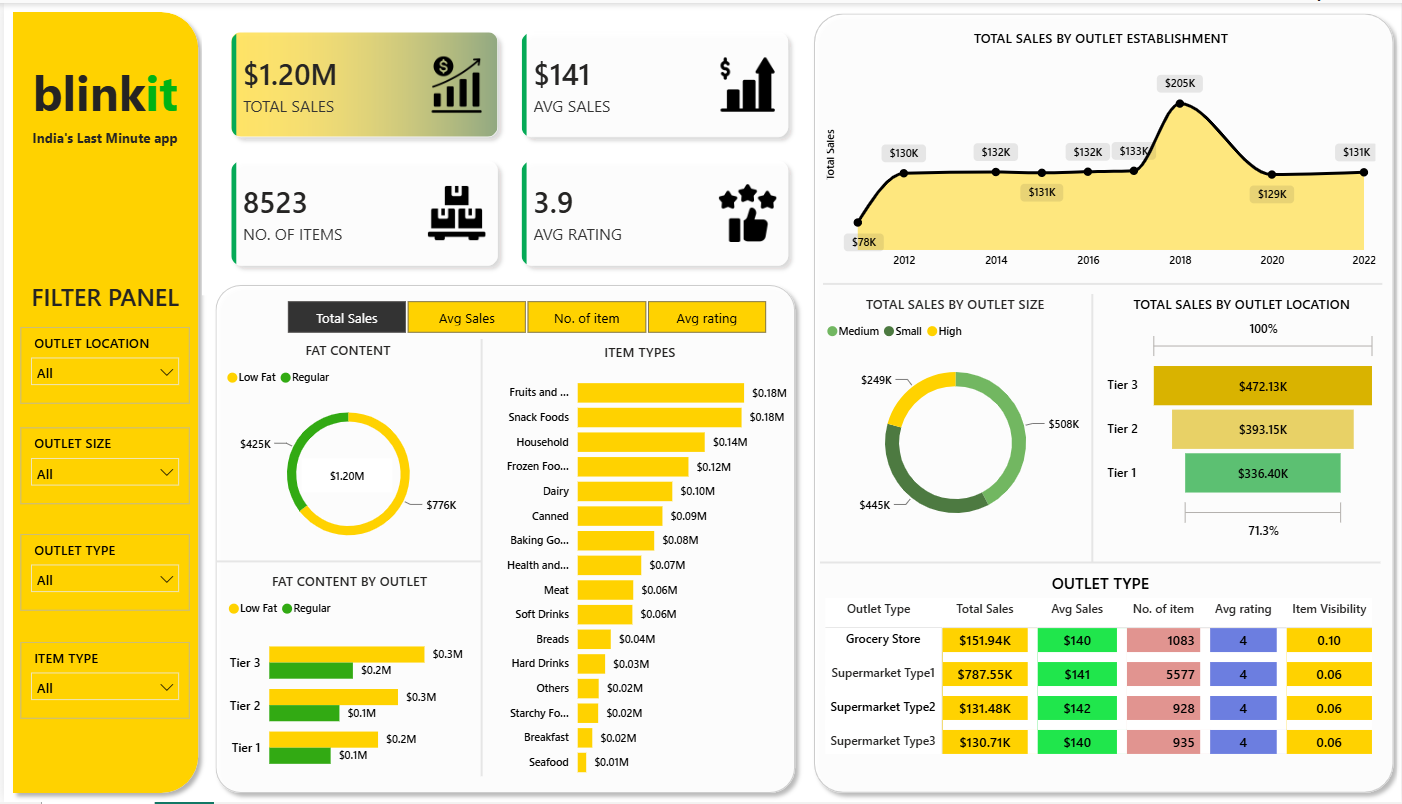

Layout of this report page (visuals, bound fields, positions):
{"tool":"powerbi","page":{"name":"Page 1","canvas":[1400,800],"ordinal":0},"visuals":[{"type":"shape","box":[0,0,203.6,800],"z":0},{"type":"textbox","box":[16.1,51.8,169.6,105.4],"z":1000},{"type":"textbox","box":[16.1,119.6,169.6,60.7],"z":2000},{"type":"cardVisual","fields":{"Data":["BlinkIT Grocery Data.Total Sales","BlinkIT Grocery Data.Avg Sales","BlinkIT Grocery Data.No. of item","BlinkIT Grocery Data.Avg rating"]},"box":[198.2,0,617.9,292.9],"z":3000},{"type":"shape","box":[203.3,273.3,598.3,526.7],"z":4000},{"type":"donutChart","title":"FAT CONTENT","fields":{"Y":["BlinkIT Grocery Data.Total Sales"],"Category":["BlinkIT Grocery Data.Item Fat Content"]},"box":[218.3,338.3,253.3,221.7],"z":5000},{"type":"slicer","fields":{"Values":["Metrics.Metrics"]},"box":[258.6,291.4,528.6,45.7],"z":6000},{"type":"cardVisual","fields":{"Data":["BlinkIT Grocery Data.Total Sales"]},"box":[292.9,450,101.8,44.6],"z":7000},{"type":"clusteredBarChart","title":"FAT CONTENT BY OUTLET","fields":{"Y":["BlinkIT Grocery Data.Total Sales"],"Category":["BlinkIT Grocery Data.Outlet Location Type"],"Series":["BlinkIT Grocery Data.Item Fat Content"]},"box":[219.6,569.6,253.6,216.1],"z":8000},{"type":"shape","box":[213.3,544.4,265.6,27.8],"z":9000},{"type":"shape","box":[472.2,336.7,13.3,437.8],"z":10000},{"type":"barChart","title":"   ITEM TYPES","fields":{"Y":["BlinkIT Grocery Data.Total Sales"],"Category":["BlinkIT Grocery Data.Item Type"]},"box":[485.6,338.9,303.3,445.6],"z":11000},{"type":"shape","box":[801.8,1.8,598.2,798.2],"z":12000},{"type":"lineChart","title":"TOTAL SALES BY OUTLET ESTABLISHMENT","fields":{"Category":["BlinkIT Grocery Data.Outlet Establishment Year"],"Y":["BlinkIT Grocery Data.Total Sales"]},"box":[818.8,38.8,560,235],"z":13000},{"type":"shape","box":[820,272.2,560,18.9],"z":14000},{"type":"donutChart","title":"TOTAL SALES BY OUTLET SIZE","fields":{"Y":["BlinkIT Grocery Data.Total Sales"],"Category":["BlinkIT Grocery Data.Outlet Size"]},"box":[818.9,291.1,267.8,252.2],"z":15000},{"type":"shape","box":[1081.1,291.1,16.7,268.9],"z":16000},{"type":"funnel","title":"TOTAL SALES BY OUTLET LOCATION","fields":{"Y":["BlinkIT Grocery Data.Total Sales"],"Category":["BlinkIT Grocery Data.Outlet Location Type"]},"box":[1098.9,291.1,280,252.2],"z":17000},{"type":"shape","box":[816.7,544.4,561.1,30],"z":18000},{"type":"pivotTable","title":"OUTLET TYPE","fields":{"Rows":["BlinkIT Grocery Data.Outlet Type"],"Values":["BlinkIT Grocery Data.Total Sales","BlinkIT Grocery Data.Avg Sales","BlinkIT Grocery Data.No. of item","BlinkIT Grocery Data.Avg rating","Avg(BlinkIT Grocery Data.Item Visibility)"]},"box":[816.1,580.4,562.5,200],"z":19000},{"type":"slicer","fields":{"Values":["BlinkIT Grocery Data.Outlet Location Type"]},"box":[16.1,325,169.6,76.8],"z":19001},{"type":"slicer","fields":{"Values":["BlinkIT Grocery Data.Outlet Size"]},"box":[16.1,425,169.6,76.8],"z":19002},{"type":"slicer","fields":{"Values":["BlinkIT Grocery Data.Outlet Type"]},"box":[16.1,532.1,169.6,76.8],"z":19003},{"type":"textbox","box":[16.1,271.4,169.6,42.9],"z":19004},{"type":"slicer","fields":{"Values":["BlinkIT Grocery Data.Item Type"]},"box":[16.1,639.3,169.6,76.8],"z":19005}]}

Visuals, with their boxes in screenshot pixels (x1, y1, x2, y2), scaled from the page's 1400x800 canvas onto the 1402x804 screenshot:
shape: x1=0 y1=0 x2=204 y2=803
textbox: x1=16 y1=52 x2=186 y2=158
textbox: x1=16 y1=120 x2=186 y2=181
cardVisual - BlinkIT Grocery Data.Total Sales x BlinkIT Grocery Data.Avg Sales: x1=198 y1=0 x2=817 y2=294
shape: x1=204 y1=275 x2=803 y2=803
"FAT CONTENT" donutChart: x1=219 y1=340 x2=472 y2=563
slicer - Metrics.Metrics: x1=259 y1=293 x2=788 y2=339
cardVisual - BlinkIT Grocery Data.Total Sales: x1=293 y1=452 x2=395 y2=497
"FAT CONTENT BY OUTLET" clusteredBarChart: x1=220 y1=572 x2=474 y2=790
shape: x1=214 y1=547 x2=480 y2=575
shape: x1=473 y1=338 x2=486 y2=778
"   ITEM TYPES" barChart: x1=486 y1=341 x2=790 y2=788
shape: x1=803 y1=2 x2=1401 y2=803
"TOTAL SALES BY OUTLET ESTABLISHMENT" lineChart: x1=820 y1=39 x2=1381 y2=275
shape: x1=821 y1=274 x2=1382 y2=293
"TOTAL SALES BY OUTLET SIZE" donutChart: x1=820 y1=293 x2=1088 y2=546
shape: x1=1083 y1=293 x2=1099 y2=563
"TOTAL SALES BY OUTLET LOCATION" funnel: x1=1100 y1=293 x2=1381 y2=546
shape: x1=818 y1=547 x2=1380 y2=577
"OUTLET TYPE" pivotTable: x1=817 y1=583 x2=1381 y2=784
slicer - BlinkIT Grocery Data.Outlet Location Type: x1=16 y1=327 x2=186 y2=404
slicer - BlinkIT Grocery Data.Outlet Size: x1=16 y1=427 x2=186 y2=504
slicer - BlinkIT Grocery Data.Outlet Type: x1=16 y1=535 x2=186 y2=612
textbox: x1=16 y1=273 x2=186 y2=316
slicer - BlinkIT Grocery Data.Item Type: x1=16 y1=642 x2=186 y2=720
